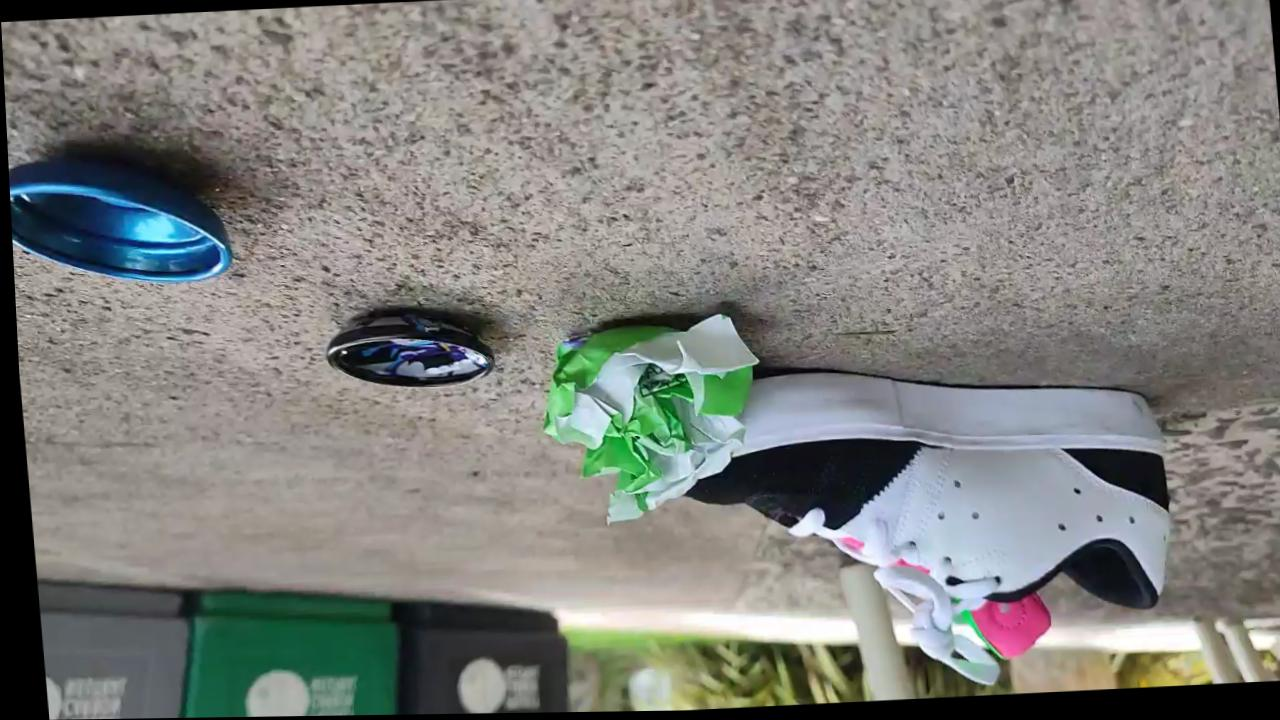paper: (544, 314, 756, 522)
